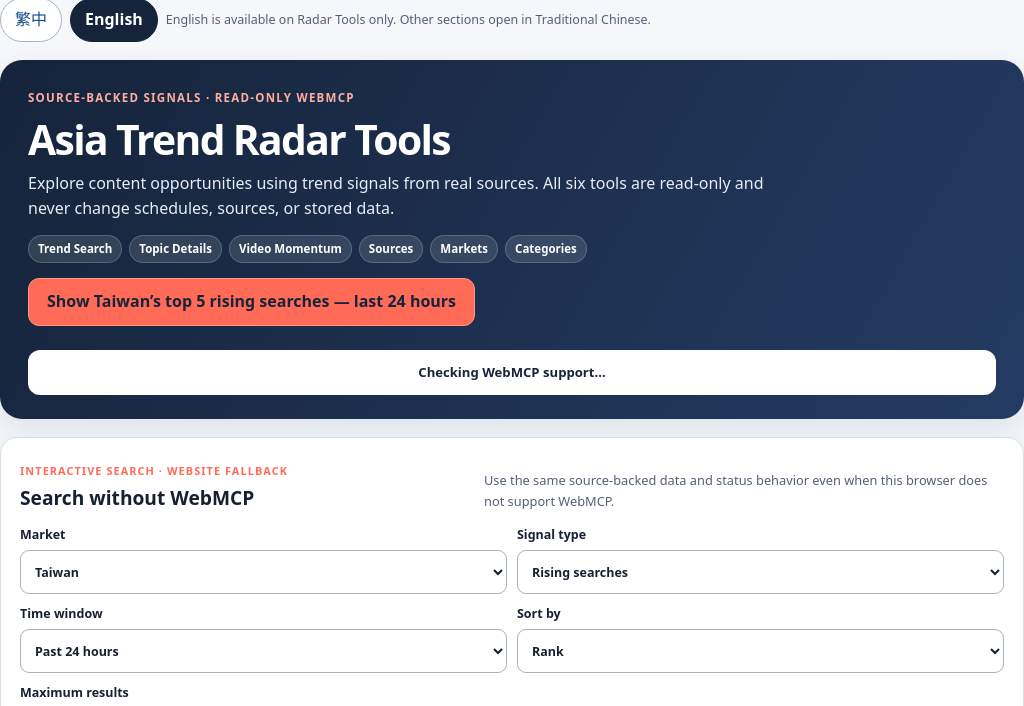
Test case: 熱門雷達唯讀WebMCP工具 › 英文介面涵蓋搜尋、動態摘要、來源狀態與語言切換
Check: the heading "Asia Trend Radar Tools" is shown, box [28,111,450,167]
Check: the text "English is available on Radar Tools only. Other sections open in Traditional Chinese." is shown, box [166,11,651,28]
Click the button "Show Taiwan’s top 5 rising searches — last 24 hours".
click(252, 302)  # box [28,278,475,326]
(page scrolled)
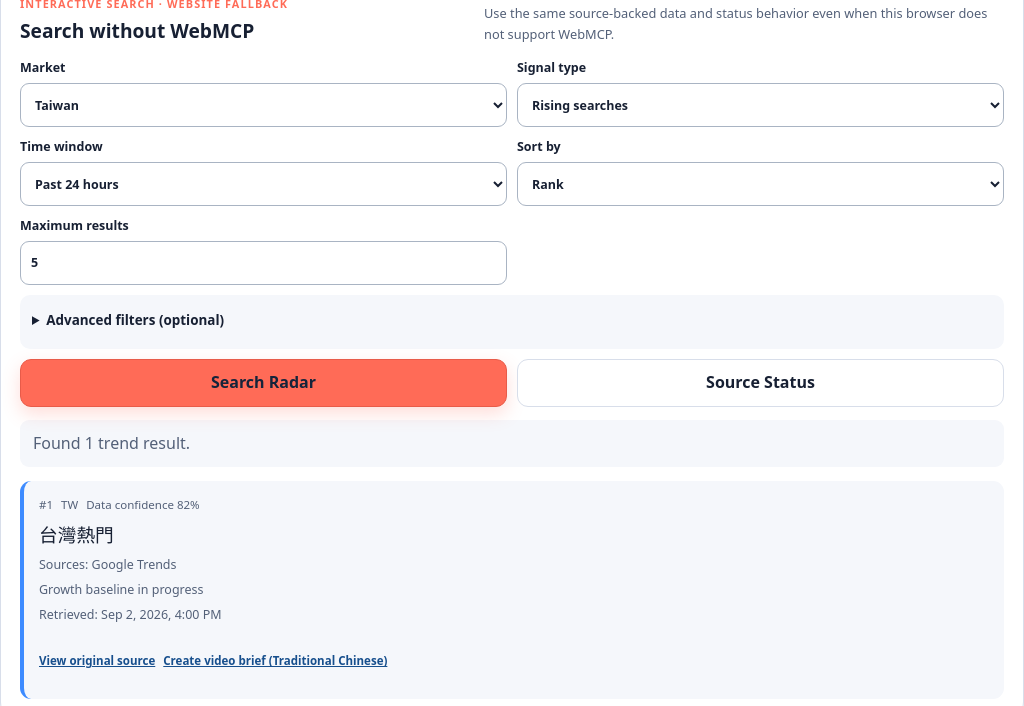
Check: the text "Found 1 trend result." is shown, box [20,420,1004,467]
Check: the text "Data confidence 82%" is shown, box [86,496,200,515]
Check: the text "Sources: Google Trends" is shown, box [39,556,176,573]
Click the button "Source Status".
click(760, 383)  # box [517,359,1004,407]
(page scrolled)
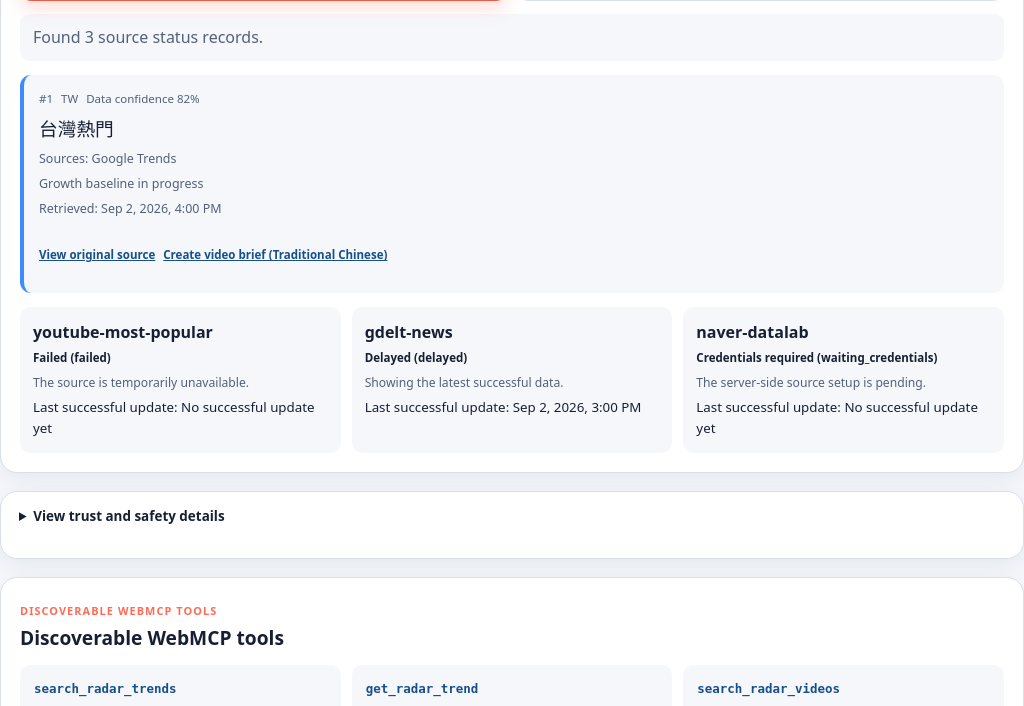
Check: the text "Found 3 source status records." is shown, box [20,14,1004,61]
Check: the text "The source is temporarily unavailable." is shown, box [33,374,249,391]
Check: the text "Showing the latest successful data." is shown, box [365,374,564,391]
